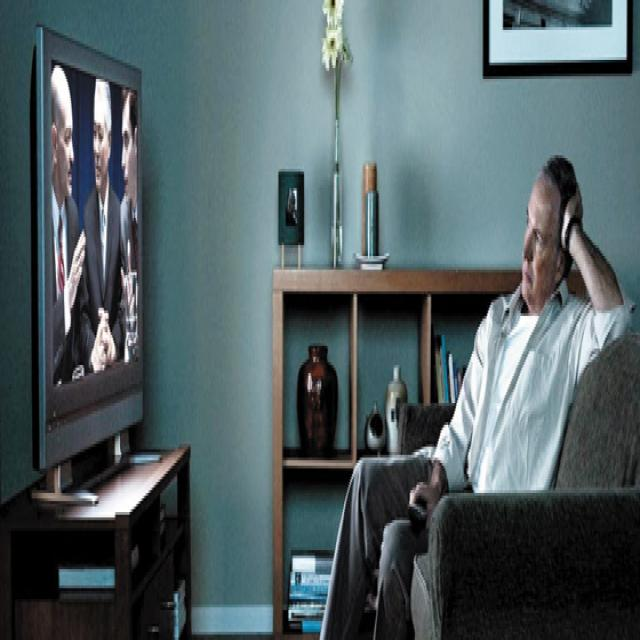tv-person: (21, 0, 634, 640)
